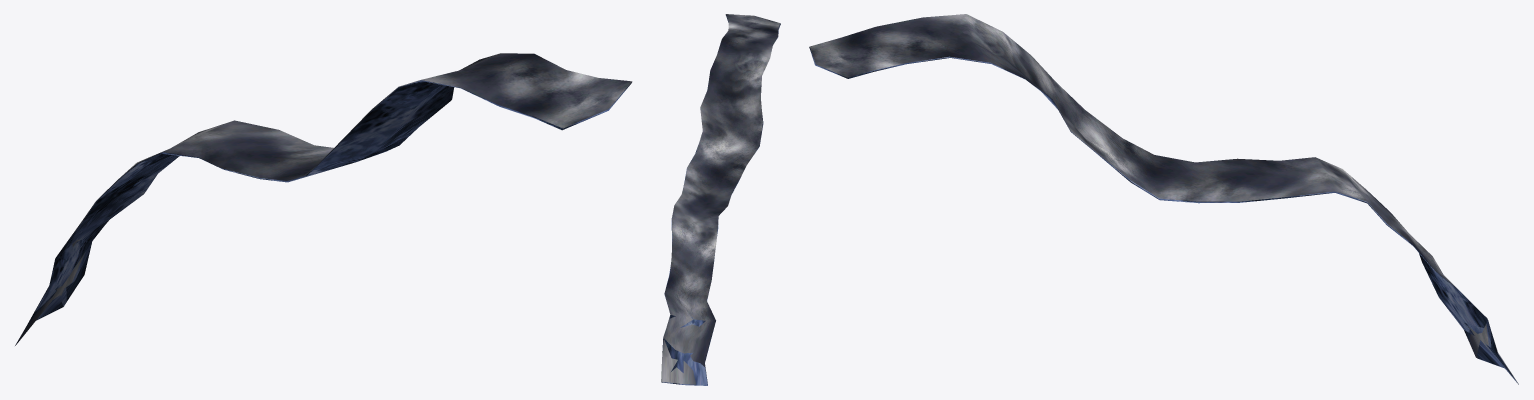
The model's file is EKH_THRONE_PS_TH_WATER47463.fbx.
The picture shows the model from 3 angles, left to right: view 1: azimuth 30°, elevation 25°; view 2: azimuth 150°, elevation 25°; view 3: azimuth 270°, elevation 25°; orthographic projection. The views are drawn at different scales.
Visible parts, largest first — view 1: EKH_THRONE_PS_TH_WATER47463; view 2: EKH_THRONE_PS_TH_WATER47463; view 3: EKH_THRONE_PS_TH_WATER47463.
Part boxes in pixels (bbox=[...]): EKH_THRONE_PS_TH_WATER47463: bbox=[15, 53, 632, 345]; EKH_THRONE_PS_TH_WATER47463: bbox=[661, 14, 780, 385]; EKH_THRONE_PS_TH_WATER47463: bbox=[809, 14, 1518, 384].
Bounding box in the file's own units: 41573 × 59155 × 91246.
2 materials, 2 textured.
